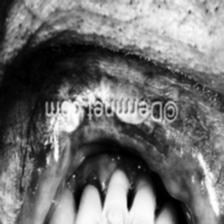Potentially Malignant Skin Tumors: (56, 80, 84, 132)
